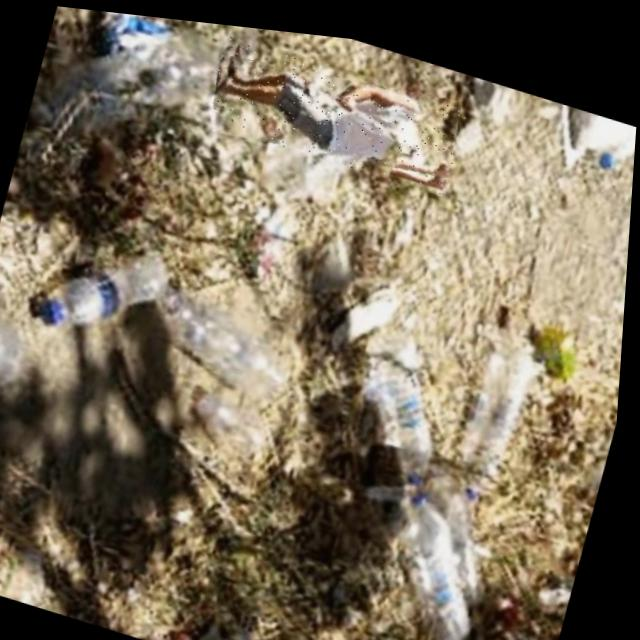Person in Rubble: (202, 29, 469, 187)
